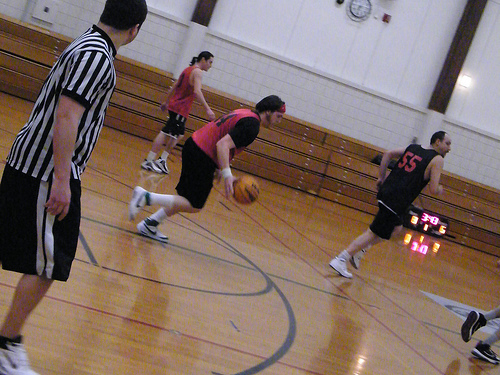basketball: (231, 175, 260, 206)
